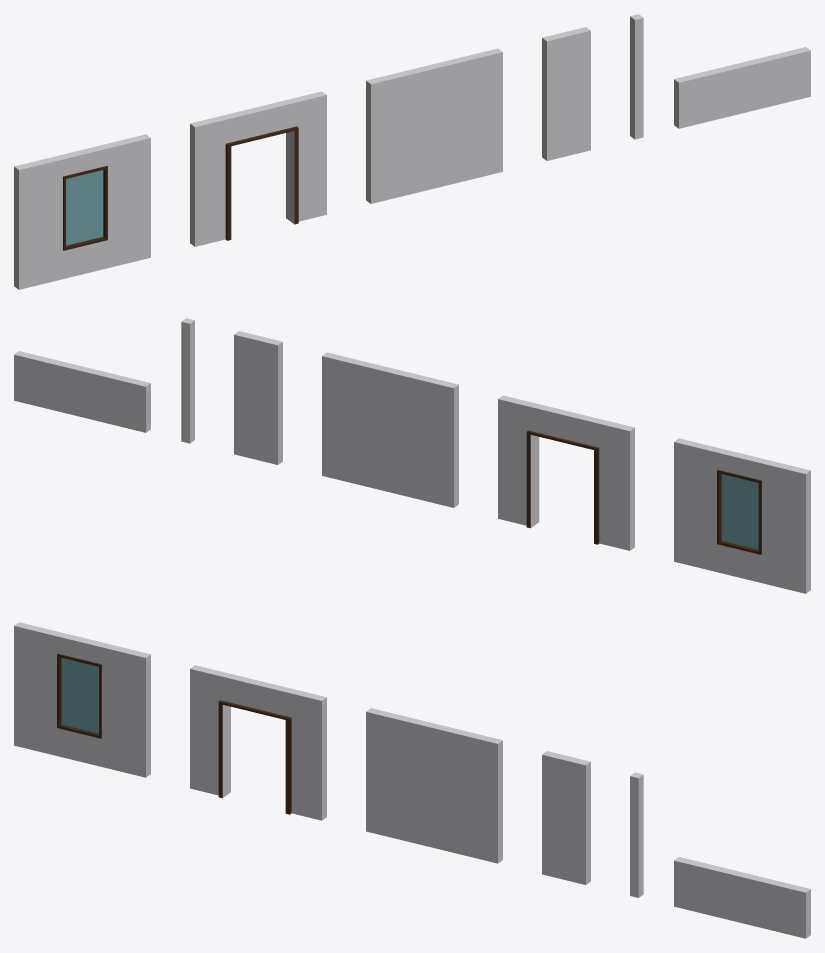
File: ModularHouse3.fbx
3 renders of one model, top to bottom at view 1: azimuth 30°, elevation 25°; view 2: azimuth 150°, elevation 25°; view 3: azimuth 330°, elevation 25°, orthographic.
Visible parts, largest first — view 1: Wall.002, Cube, Doorway, Wall.001, ShortWall.003, Window, Doorway.001, Pillar; view 2: Wall.002, Cube, Doorway, Wall.001, ShortWall.003, Window, Doorway.001, Pillar; view 3: Wall.002, Cube, Doorway, Wall.001, ShortWall.003, Window, Doorway.001, Pillar.
Part boxes in pixels (left/top/right/bottom): Wall.002: left=366, top=48, right=502, bottom=203; Cube: left=14, top=134, right=150, bottom=289; Doorway: left=190, top=91, right=326, bottom=246; Wall.001: left=674, top=47, right=810, bottom=128; ShortWall.003: left=542, top=27, right=590, bottom=160; Window: left=63, top=166, right=107, bottom=250; Doorway.001: left=225, top=126, right=298, bottom=240; Pillar: left=630, top=14, right=643, bottom=139; Wall.002: left=322, top=352, right=458, bottom=507; Cube: left=674, top=438, right=810, bottom=593; Doorway: left=498, top=395, right=634, bottom=550; Wall.001: left=14, top=351, right=150, bottom=432; ShortWall.003: left=234, top=331, right=282, bottom=464; Window: left=717, top=470, right=761, bottom=554; Doorway.001: left=526, top=430, right=599, bottom=544; Pillar: left=181, top=318, right=194, bottom=443; Wall.002: left=366, top=708, right=502, bottom=863; Cube: left=14, top=622, right=150, bottom=777; Doorway: left=190, top=665, right=326, bottom=820; Wall.001: left=674, top=857, right=810, bottom=938; ShortWall.003: left=542, top=751, right=590, bottom=884; Window: left=57, top=653, right=101, bottom=738; Doorway.001: left=218, top=700, right=291, bottom=814; Pillar: left=630, top=772, right=643, bottom=897.
Size of the model in its own units: 0.672 by 36 by 5.2.
